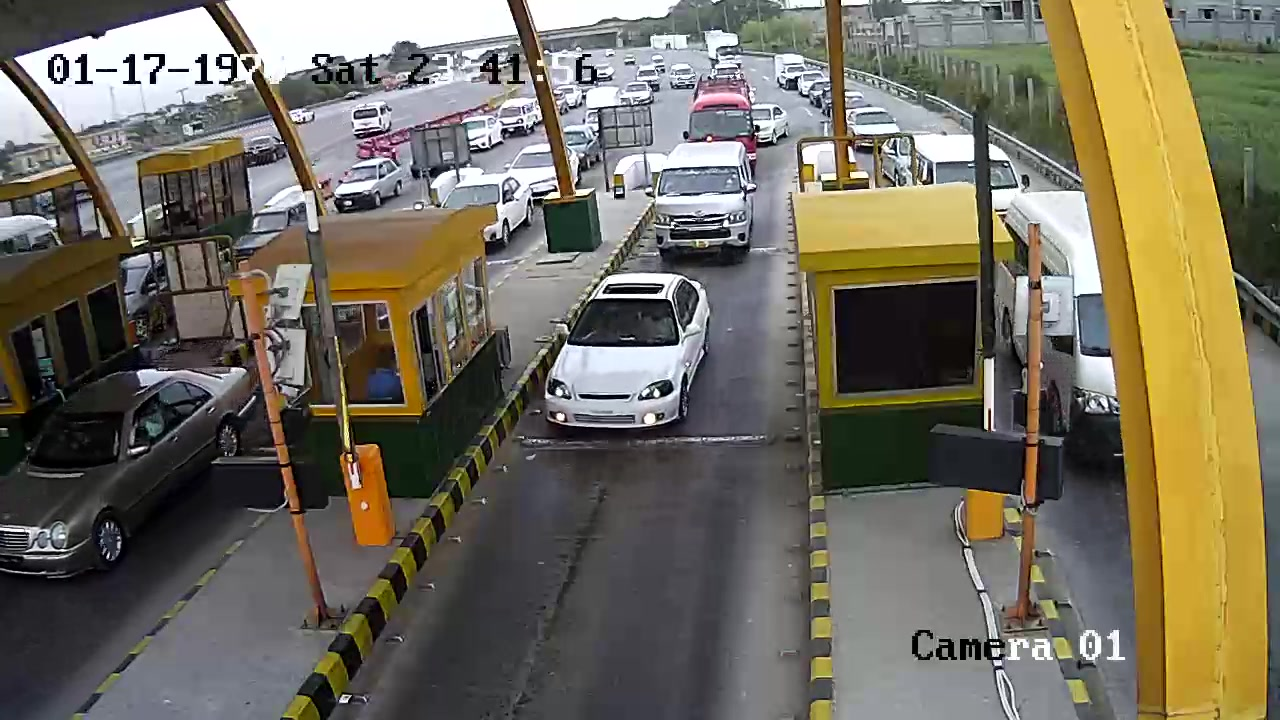F1: (525, 271, 736, 444)
